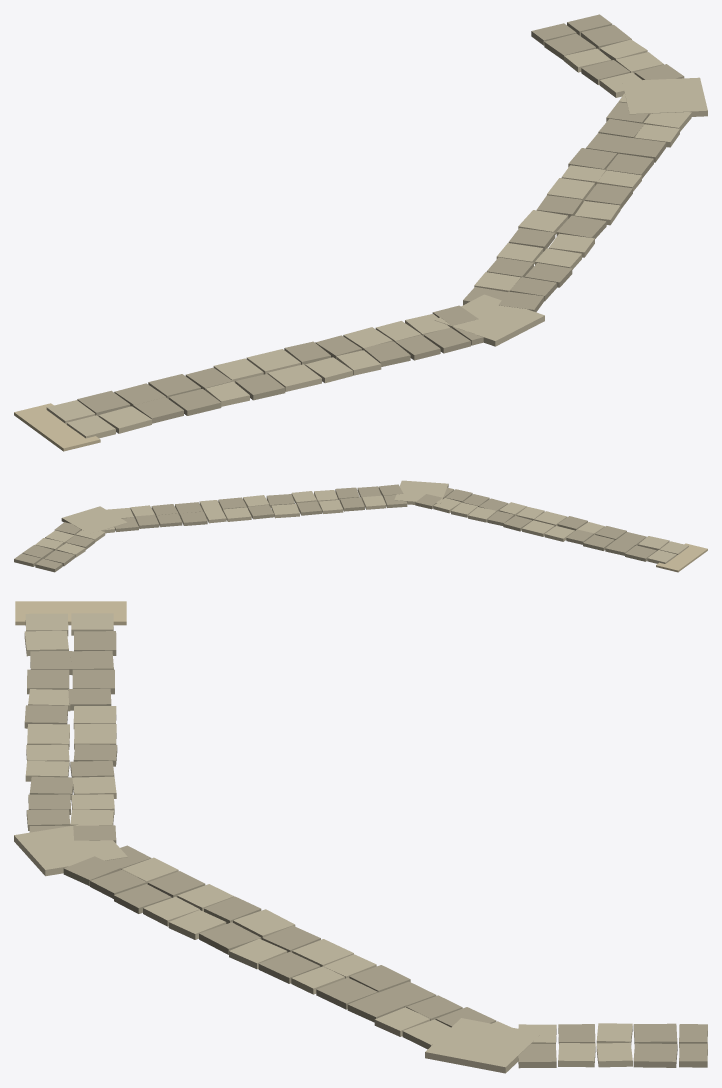
Rendered from lwf_garden_path_flagstones_v1.glb.
3 renders of one model, top to bottom at view 1: azimuth 30°, elevation 25°; view 2: azimuth 150°, elevation 25°; view 3: azimuth 270°, elevation 25°, orthographic. The views are drawn at different scales.
Visible parts, largest first — view 1: LWF_GardenPath_Flagstones; view 2: LWF_GardenPath_Flagstones; view 3: LWF_GardenPath_Flagstones.
Part boxes in pixels (bbox=[...]): LWF_GardenPath_Flagstones: bbox=[14, 14, 707, 451]; LWF_GardenPath_Flagstones: bbox=[14, 480, 707, 572]; LWF_GardenPath_Flagstones: bbox=[14, 601, 707, 1073].
Bounding box in the file's own units: 11.56 × 0.0779 × 7.23.
1 material, 1 textured.
